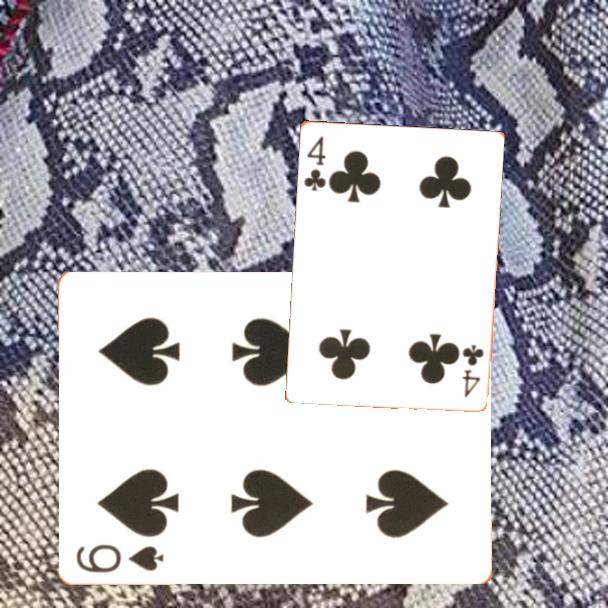c04: (300, 132, 329, 194), (459, 341, 486, 400)
s06: (73, 540, 167, 575)
